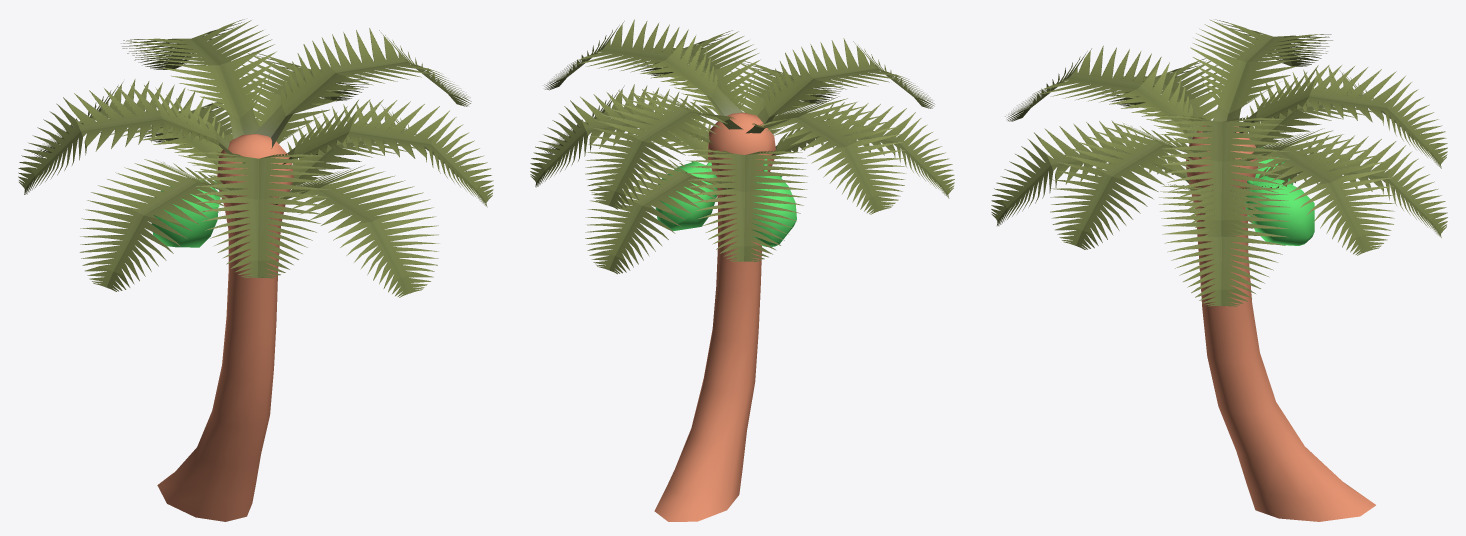
File: Palm.fbx
3 views of the same model, side by side, from view 1: azimuth 30°, elevation 25°; view 2: azimuth 150°, elevation 25°; view 3: azimuth 270°, elevation 25° (orthographic). The views are drawn at different scales.
Parts seen in each view (by area): view 1: SM_Palm; view 2: SM_Palm; view 3: SM_Palm.
Part boxes in pixels (bbox=[...]): SM_Palm: bbox=[18, 19, 493, 521]; SM_Palm: bbox=[530, 19, 954, 521]; SM_Palm: bbox=[991, 19, 1447, 521].
Size of what is drawn, in the model's own units: 380 by 391 by 381.
